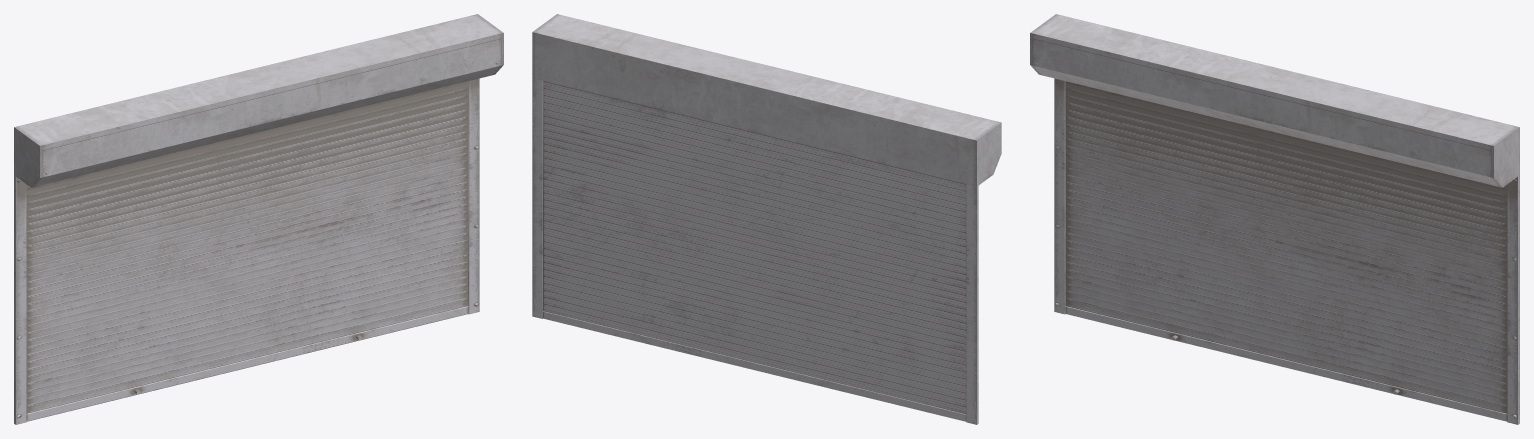
The model's file is window_shutter.glb.
3 views of the same model, side by side, from view 1: azimuth 30°, elevation 25°; view 2: azimuth 150°, elevation 25°; view 3: azimuth 330°, elevation 25° (orthographic). The views are drawn at different scales.
Visible parts, largest first — view 1: window_shutter; view 2: window_shutter; view 3: window_shutter.
Boxes of the visible parts, x1,y1,x2,y2 form: window_shutter: [14, 14, 503, 424]; window_shutter: [532, 14, 1001, 424]; window_shutter: [1030, 14, 1519, 424].
Size of the model in its own units: 1.85 by 1.13 by 0.18.
1 material, 1 textured.
